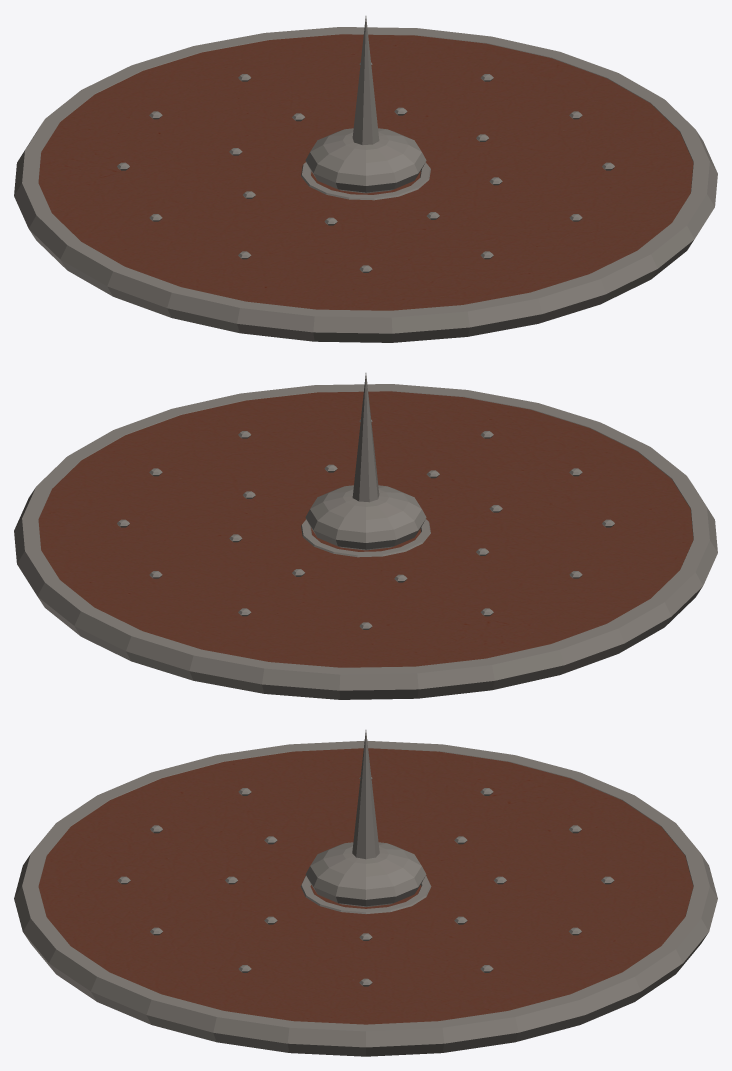
The model's file is targe.fbx.
The picture shows the model from 3 angles, top to bottom: view 1: azimuth 30°, elevation 25°; view 2: azimuth 150°, elevation 25°; view 3: azimuth 270°, elevation 25°; orthographic projection.
Visible parts, largest first — view 1: targe; view 2: targe; view 3: targe.
Part boxes in pixels (x1,y1,x2,y2): targe: (14, 16, 717, 342); targe: (14, 373, 717, 699); targe: (14, 730, 717, 1056).
Size of the model in its own units: 0.524 by 0.167 by 0.524.
2 materials, 1 textured.
